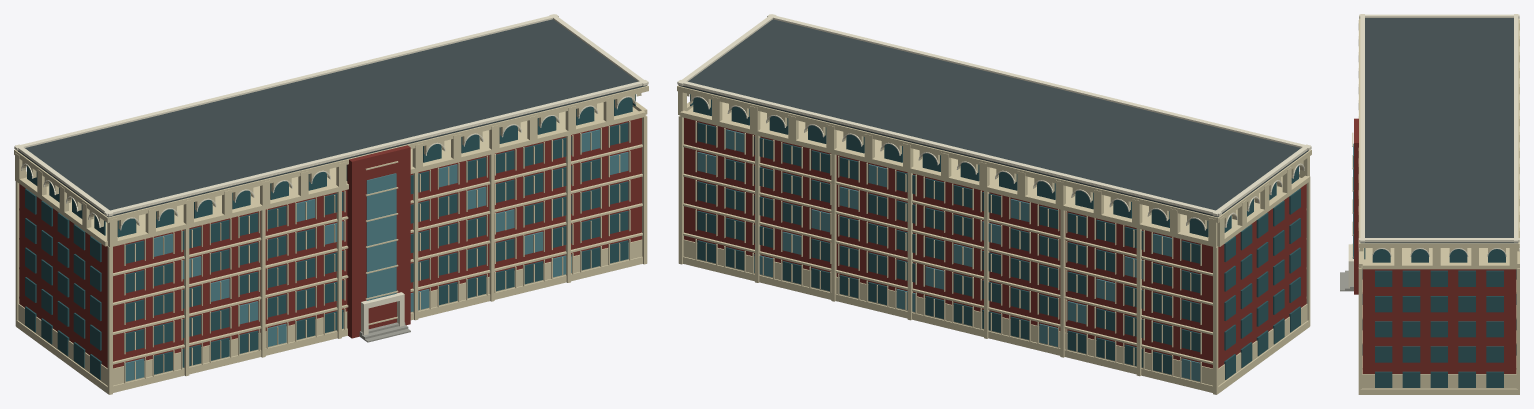
3 views of the same model, side by side, from view 1: azimuth 30°, elevation 25°; view 2: azimuth 150°, elevation 25°; view 3: azimuth 270°, elevation 25° (orthographic). The views are drawn at different scales.
Visible parts, largest first — view 1: MainBlock_Roof, MainBlock_Structure, MainBlock_WindowGlass, MainBlock_WindowFrames, MainBlock_Pilasters, MainBlock_CentralBrickPier, MainBlock_RoofCoping, MainBlock_FloorBands, MainBlock_SideWindows, MainBlock_AtticPiers, MainBlock_Plinth, MainBlock_AtticRecess (+8 smaller); view 2: MainBlock_Roof, MainBlock_Structure, MainBlock_WindowGlass, MainBlock_WindowFrames, MainBlock_FloorBands, MainBlock_Pilasters, MainBlock_RoofCoping, MainBlock_SideWindows, MainBlock_AtticPiers, MainBlock_Plinth, MainBlock_AtticRecess, MainBlock_AtticSills (+5 smaller); view 3: MainBlock_Roof, MainBlock_Structure, MainBlock_SideWindows, MainBlock_RoofCoping, MainBlock_Cornice, MainBlock_GroundStonework, MainBlock_AtticPiers, MainBlock_Plinth, MainBlock_AtticFloor, MainBlock_Pilasters, MainBlock_AtticSills, MainBlock_AtticRecess (+4 smaller).
Boxes of the visible parts, x1,y1,x2,y2 form: MainBlock_Roof: (17, 19, 646, 217); MainBlock_Structure: (19, 118, 641, 368); MainBlock_WindowGlass: (125, 122, 628, 381); MainBlock_WindowFrames: (124, 121, 630, 383); MainBlock_Pilasters: (15, 115, 647, 394); MainBlock_CentralBrickPier: (347, 145, 410, 338); MainBlock_RoofCoping: (14, 14, 648, 216); MainBlock_FloorBands: (19, 144, 642, 364); MainBlock_SideWindows: (25, 188, 101, 379); MainBlock_AtticPiers: (15, 96, 613, 247); MainBlock_Plinth: (16, 256, 642, 393); MainBlock_AtticRecess: (27, 94, 635, 237); MainBlock_Roof: (679, 19, 1308, 217); MainBlock_Structure: (684, 118, 1306, 368); MainBlock_WindowGlass: (697, 122, 1200, 381); MainBlock_WindowFrames: (695, 121, 1201, 383); MainBlock_FloorBands: (683, 144, 1306, 364); MainBlock_Pilasters: (678, 115, 1310, 394); MainBlock_RoofCoping: (677, 14, 1311, 216); MainBlock_SideWindows: (1224, 188, 1300, 379); MainBlock_AtticPiers: (678, 91, 1309, 247); MainBlock_Plinth: (683, 256, 1309, 393); MainBlock_AtticRecess: (690, 94, 1298, 237); MainBlock_AtticSills: (680, 102, 1310, 245); MainBlock_Roof: (1360, 18, 1517, 243); MainBlock_Structure: (1362, 269, 1516, 373); MainBlock_SideWindows: (1375, 270, 1503, 387); MainBlock_RoofCoping: (1359, 14, 1519, 242); MainBlock_Cornice: (1359, 18, 1519, 247); MainBlock_GroundStonework: (1362, 269, 1516, 388); MainBlock_AtticPiers: (1358, 20, 1519, 269); MainBlock_Plinth: (1360, 388, 1517, 394); MainBlock_AtticFloor: (1361, 248, 1509, 269); MainBlock_Pilasters: (1358, 255, 1519, 394); MainBlock_AtticSills: (1359, 251, 1519, 269); MainBlock_AtticRecess: (1364, 248, 1505, 262).
Bounding box in the file's own units: 75.1 × 23.94 × 25.18.
